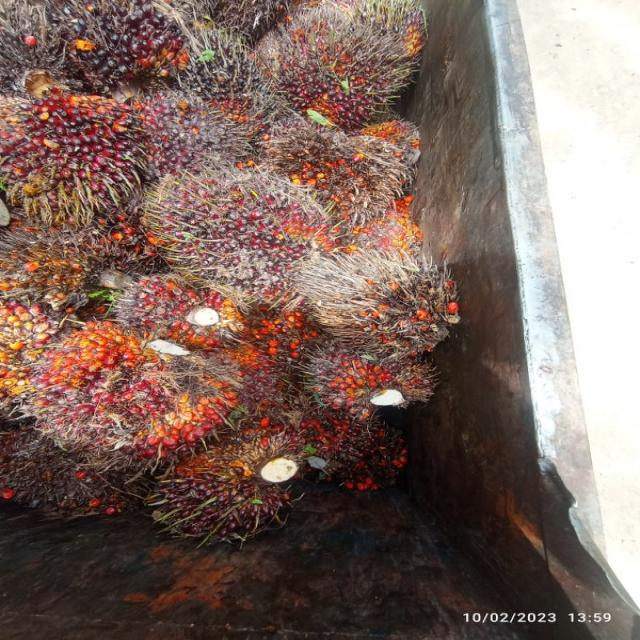fraksi 00: (64, 0, 184, 96), (172, 26, 269, 141)
fraksi 1: (136, 162, 340, 297), (142, 413, 328, 553), (272, 0, 439, 139), (3, 75, 152, 228), (137, 85, 232, 193)
fraksi 3: (38, 312, 193, 448), (287, 332, 452, 414), (126, 278, 260, 361)
fraksi 4: (306, 237, 504, 374), (252, 100, 402, 218)
